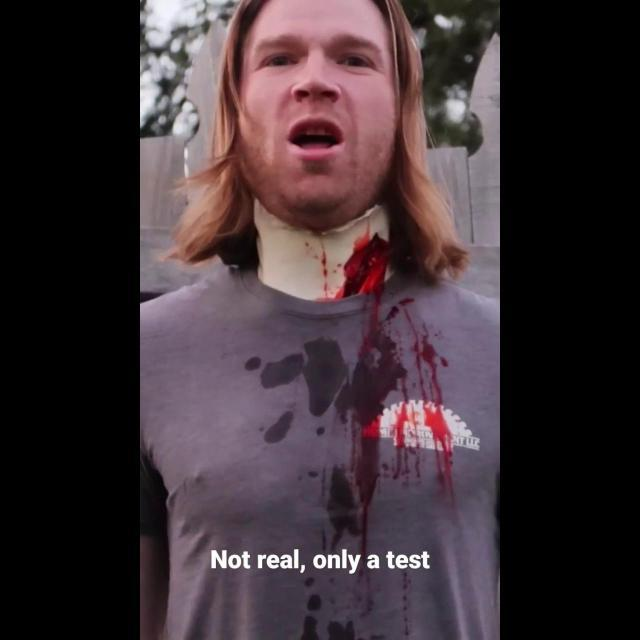blood: (300, 230, 455, 569)
